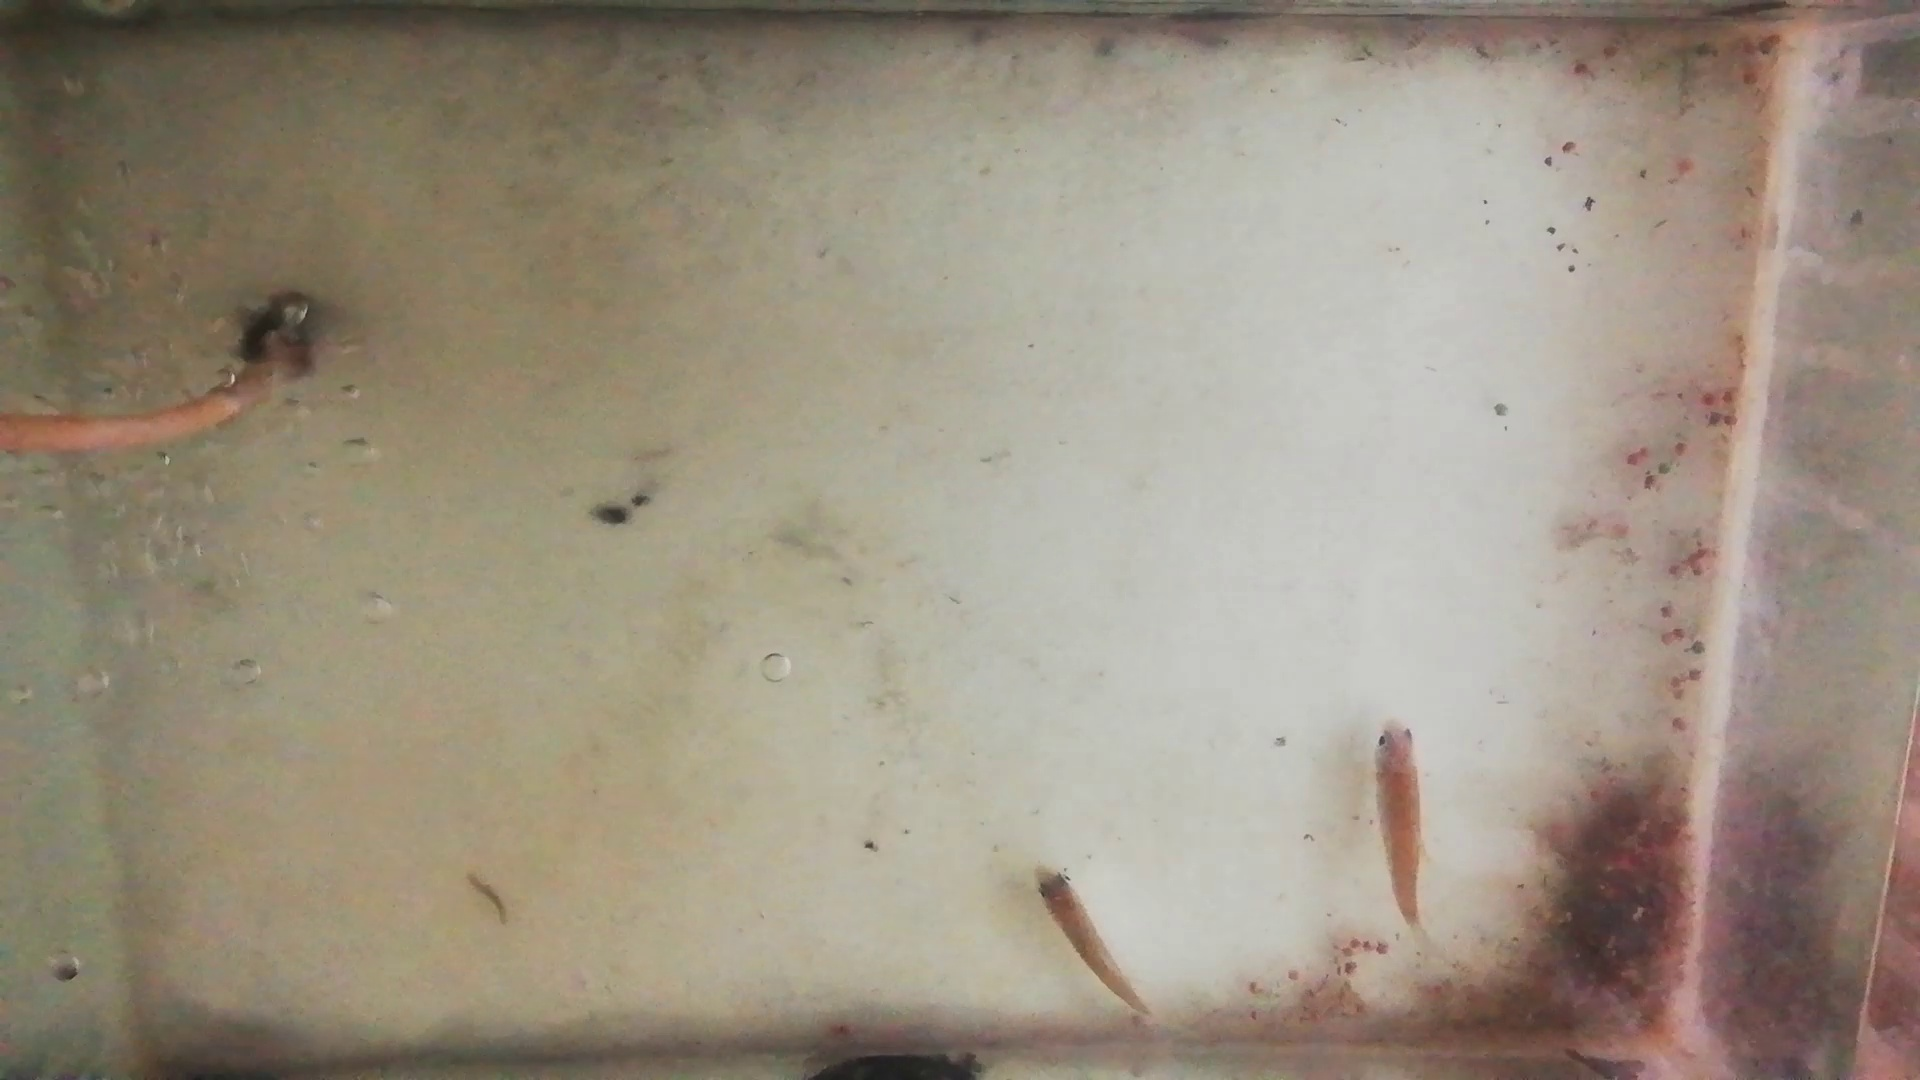fish: (1031, 864, 1149, 1013), (1370, 719, 1427, 928)
